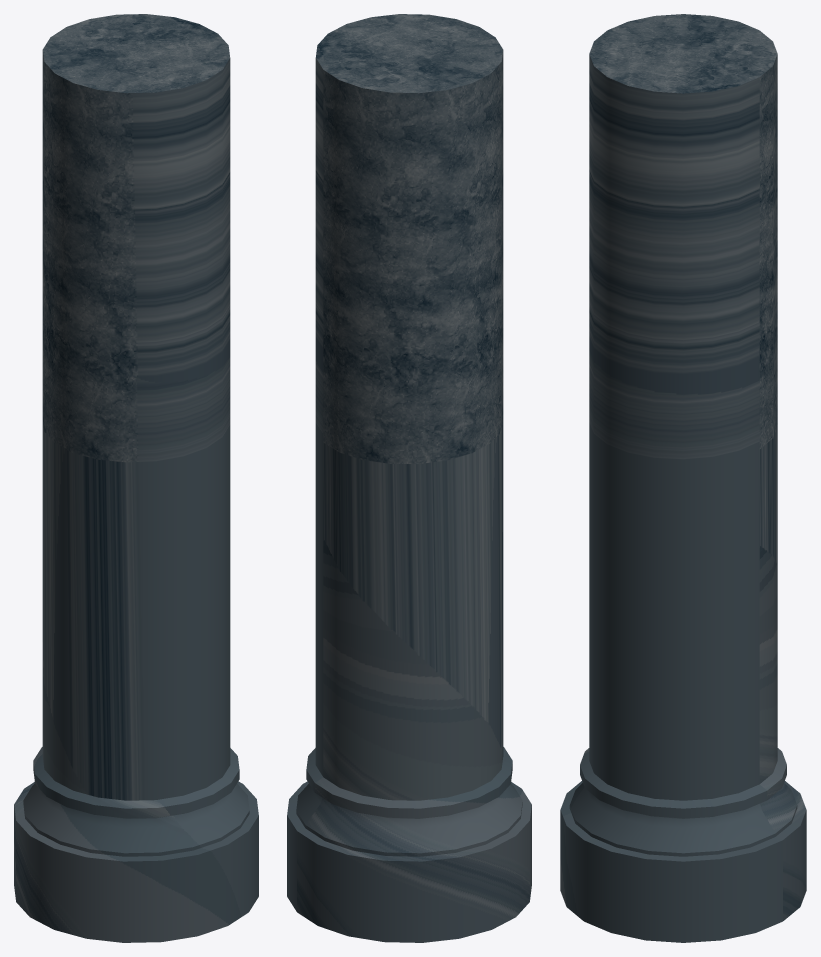
File: upgrade_collection_pillar.fbx
The picture shows the model from 3 angles, left to right: view 1: azimuth 30°, elevation 25°; view 2: azimuth 150°, elevation 25°; view 3: azimuth 270°, elevation 25°; orthographic projection.
Parts seen in each view (by area): view 1: upgrade_collection_pillar; view 2: upgrade_collection_pillar; view 3: upgrade_collection_pillar.
Boxes of the visible parts, <box> form: upgrade_collection_pillar: <box>14,14,258,942</box>; upgrade_collection_pillar: <box>287,14,531,942</box>; upgrade_collection_pillar: <box>560,14,806,942</box>.
Size of the model in its own units: 263 by 989 by 263.
Materials: 1 (1 with a texture image).
